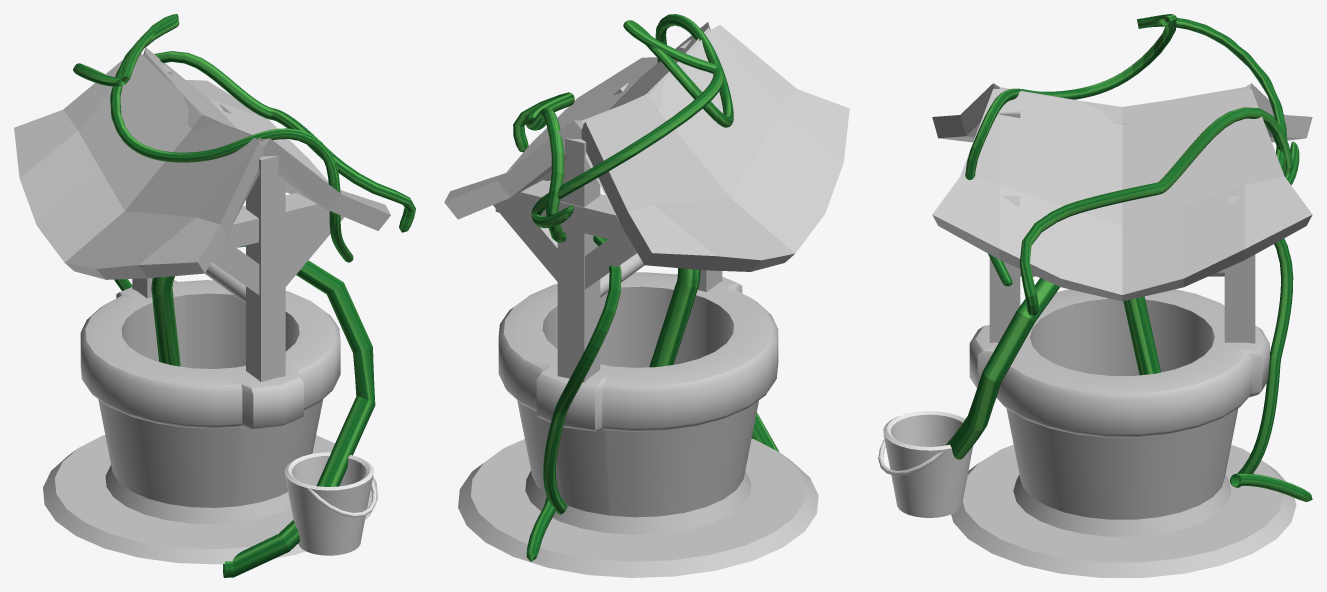
File: Well (2).fbx
3 renders of one model, left to right at view 1: azimuth 30°, elevation 25°; view 2: azimuth 150°, elevation 25°; view 3: azimuth 270°, elevation 25°, orthographic. The views are drawn at different scales.
Parts seen in each view (by area): view 1: Cube.003, Cylinder.001, Cylinder.003, Cylinder.007, Cube, Cylinder.005, Cylinder.002, Cylinder, Cube.001, Cube.002, Cylinder.004, Cylinder.006; view 2: Cube.003, Cylinder.001, Cylinder.003, Cylinder, Cube, Cylinder.002, Cube.005, Cube.004, Cylinder.007, Cylinder.004; view 3: Cube.003, Cylinder.001, Cylinder.003, Cylinder, Cylinder.005, Cylinder.007, Cylinder.002, Cube.
Boxes of the visible parts, x1=… form: Cube.003: x1=14, y1=47, x2=390, y2=279; Cylinder.001: x1=80, y1=280, x2=340, y2=507; Cylinder.003: x1=43, y1=435, x2=378, y2=564; Cylinder.007: x1=151, y1=245, x2=375, y2=577; Cube: x1=132, y1=63, x2=285, y2=381; Cylinder.005: x1=284, y1=452, x2=373, y2=555; Cylinder.002: x1=73, y1=14, x2=353, y2=262; Cylinder: x1=114, y1=51, x2=415, y2=290; Cube.001: x1=212, y1=182, x2=344, y2=294; Cube.002: x1=224, y1=193, x2=324, y2=247; Cylinder.004: x1=205, y1=262, x2=245, y2=303; Cylinder.006: x1=307, y1=479, x2=376, y2=517; Cube.003: x1=444, y1=22, x2=849, y2=271; Cylinder.001: x1=498, y1=272, x2=778, y2=517; Cylinder.003: x1=458, y1=438, x2=818, y2=577; Cylinder: x1=513, y1=92, x2=621, y2=561; Cube: x1=557, y1=39, x2=722, y2=382; Cylinder.002: x1=531, y1=14, x2=733, y2=228; Cube.005: x1=495, y1=180, x2=632, y2=244; Cube.004: x1=493, y1=168, x2=636, y2=289; Cylinder.007: x1=649, y1=268, x2=778, y2=451; Cylinder.004: x1=600, y1=253, x2=644, y2=297; Cube.003: x1=932, y1=83, x2=1312, y2=301; Cylinder.001: x1=969, y1=289, x2=1269, y2=519; Cylinder.003: x1=951, y1=444, x2=1296, y2=577; Cylinder: x1=1019, y1=107, x2=1312, y2=501; Cylinder.005: x1=883, y1=411, x2=972, y2=517; Cylinder.007: x1=945, y1=278, x2=1160, y2=459; Cylinder.002: x1=965, y1=14, x2=1299, y2=286; Cube: x1=989, y1=111, x2=1255, y2=343.
Size of the model in its own units: 154 by 233 by 183.
